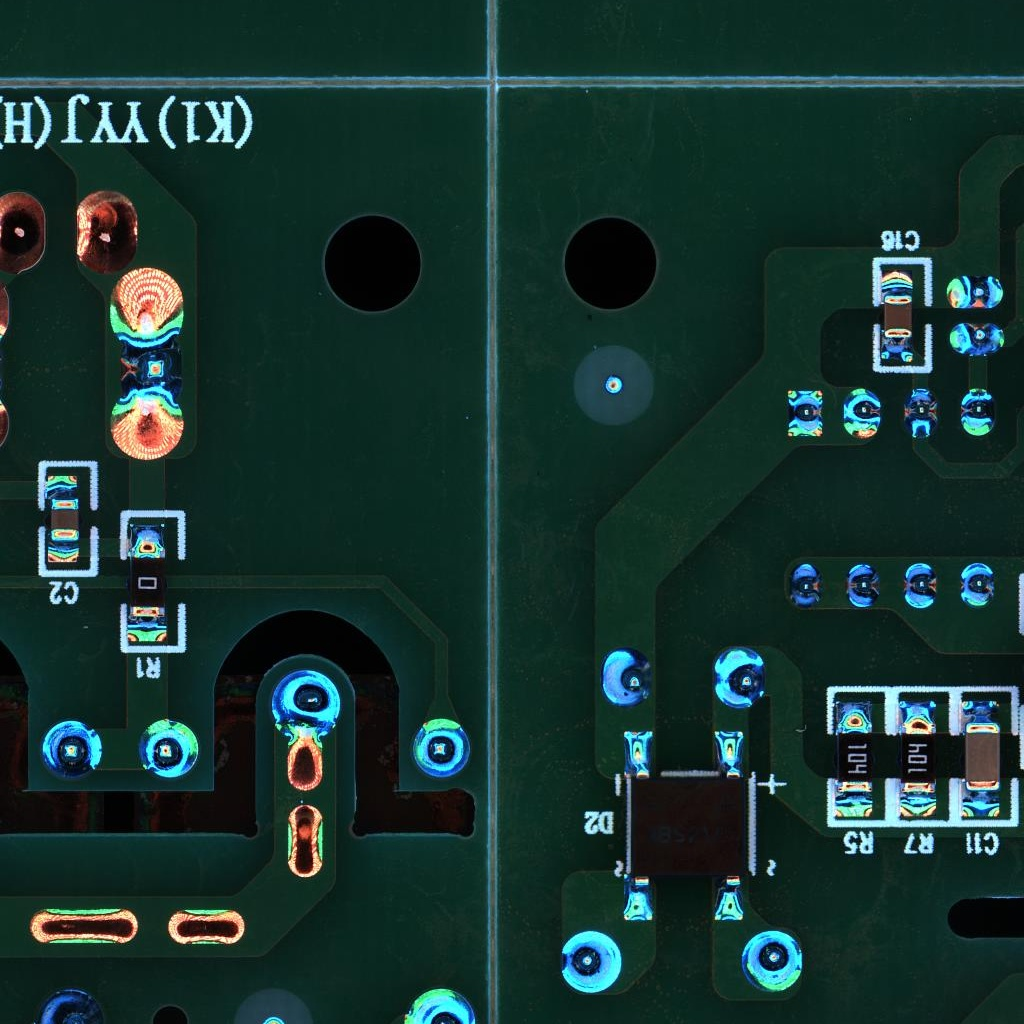spot: (269, 668, 343, 743), (110, 337, 186, 410), (39, 717, 106, 787), (739, 927, 807, 995), (559, 930, 624, 994), (136, 717, 201, 781), (410, 717, 471, 780), (711, 644, 767, 708), (601, 647, 653, 708), (402, 986, 478, 1024), (38, 987, 112, 1024), (944, 273, 1004, 311), (947, 321, 1007, 359), (842, 387, 883, 441), (784, 385, 825, 439), (902, 385, 939, 440), (960, 386, 998, 438), (902, 559, 938, 610), (959, 559, 995, 609), (787, 559, 822, 610), (845, 563, 880, 611)
